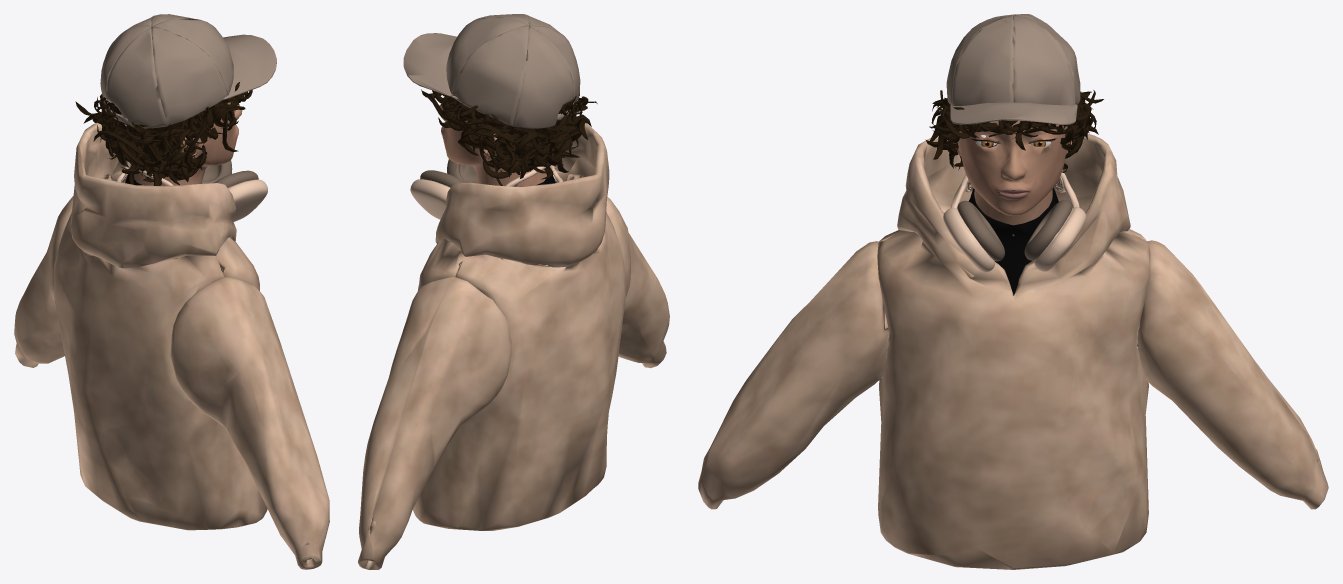
The model's file is Khubaib-mobile.glb.
The picture shows the model from 3 angles, left to right: view 1: azimuth 30°, elevation 25°; view 2: azimuth 150°, elevation 25°; view 3: azimuth 270°, elevation 25°; orthographic projection. The views are drawn at different scales.
Parts seen in each view (by area): view 1: Hoodie, Cap, Hair, Head, Cube.007, Cube.001, Cube.005; view 2: Hoodie, Cap, Hair, Head, Cube.004, Cube.005, Cube.001; view 3: Hoodie, Cap, Head, Hair, Cube.007, Cube.004, Cube.001, Cube.005.
Boxes of the visible parts, x1,y1,x2,y2 form: Hoodie: (14, 122, 329, 569); Cap: (100, 14, 276, 128); Hair: (75, 82, 252, 185); Head: (125, 102, 242, 186); Cube.007: (228, 179, 267, 221); Cube.001: (201, 160, 232, 183); Cube.005: (214, 170, 258, 187); Hoodie: (358, 123, 669, 569); Cap: (403, 14, 580, 128); Hair: (421, 89, 597, 185); Head: (438, 104, 555, 186); Cube.004: (410, 179, 450, 219); Cube.005: (447, 159, 478, 183); Cube.001: (420, 170, 464, 187); Hoodie: (698, 133, 1328, 569); Cap: (946, 14, 1080, 124); Head: (953, 120, 1072, 295); Hair: (925, 90, 1103, 172); Cube.007: (943, 207, 994, 272); Cube.004: (1034, 207, 1086, 271); Cube.001: (1024, 200, 1072, 260); Cube.005: (957, 200, 1004, 261).
Size of the model in its own units: 1.71 by 4.14 by 4.64.
Materials: 13 (5 with a texture image).
